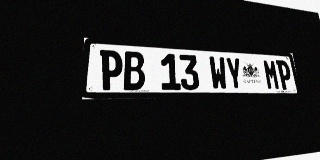1: (160, 53, 181, 90)
3: (179, 54, 200, 90)
B: (123, 51, 145, 90)
M: (262, 59, 281, 90)
P: (100, 50, 123, 90), (276, 60, 294, 90)
W: (208, 56, 228, 90)
Y: (225, 57, 244, 90)
